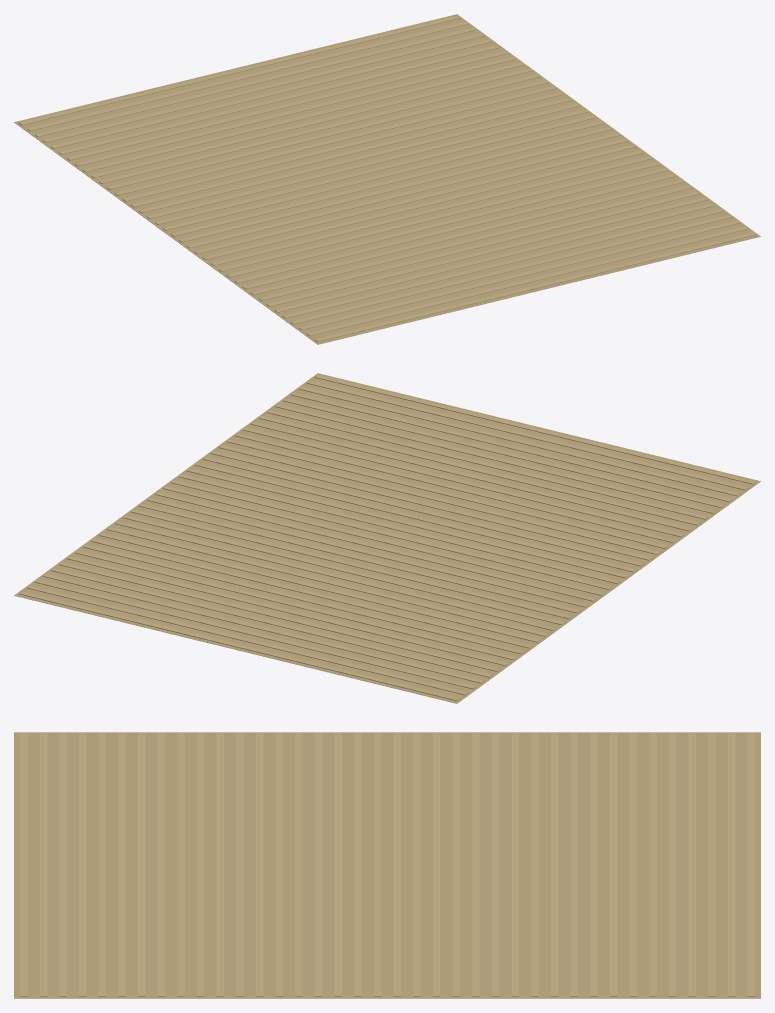
Rendered from crop-3.glb.
3 renders of one model, top to bottom at view 1: azimuth 30°, elevation 25°; view 2: azimuth 150°, elevation 25°; view 3: azimuth 270°, elevation 25°, orthographic. The views are drawn at different scales.
Size of the model in its own units: 64 by 0.125 by 76.
